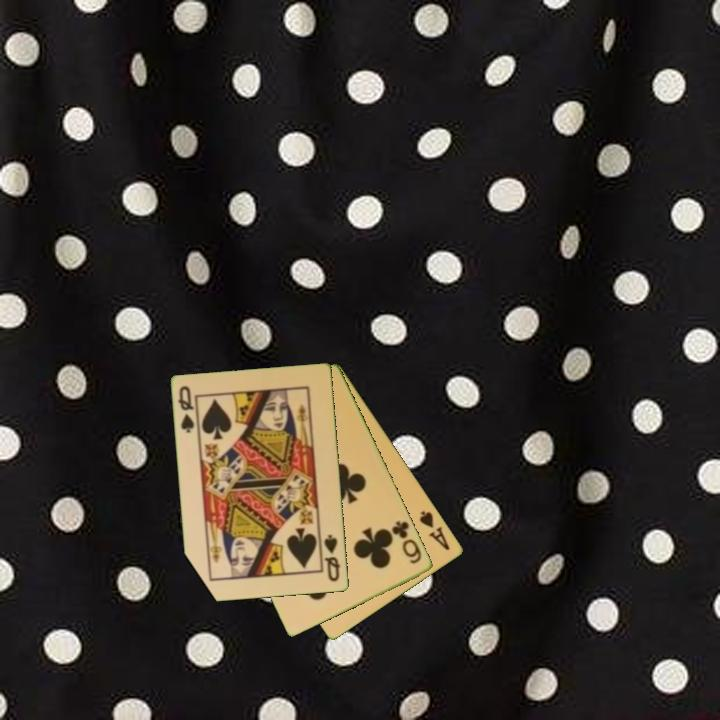6c: (388, 517, 425, 567)
As: (416, 507, 453, 554)
Qs: (174, 383, 201, 436), (321, 531, 343, 584)
